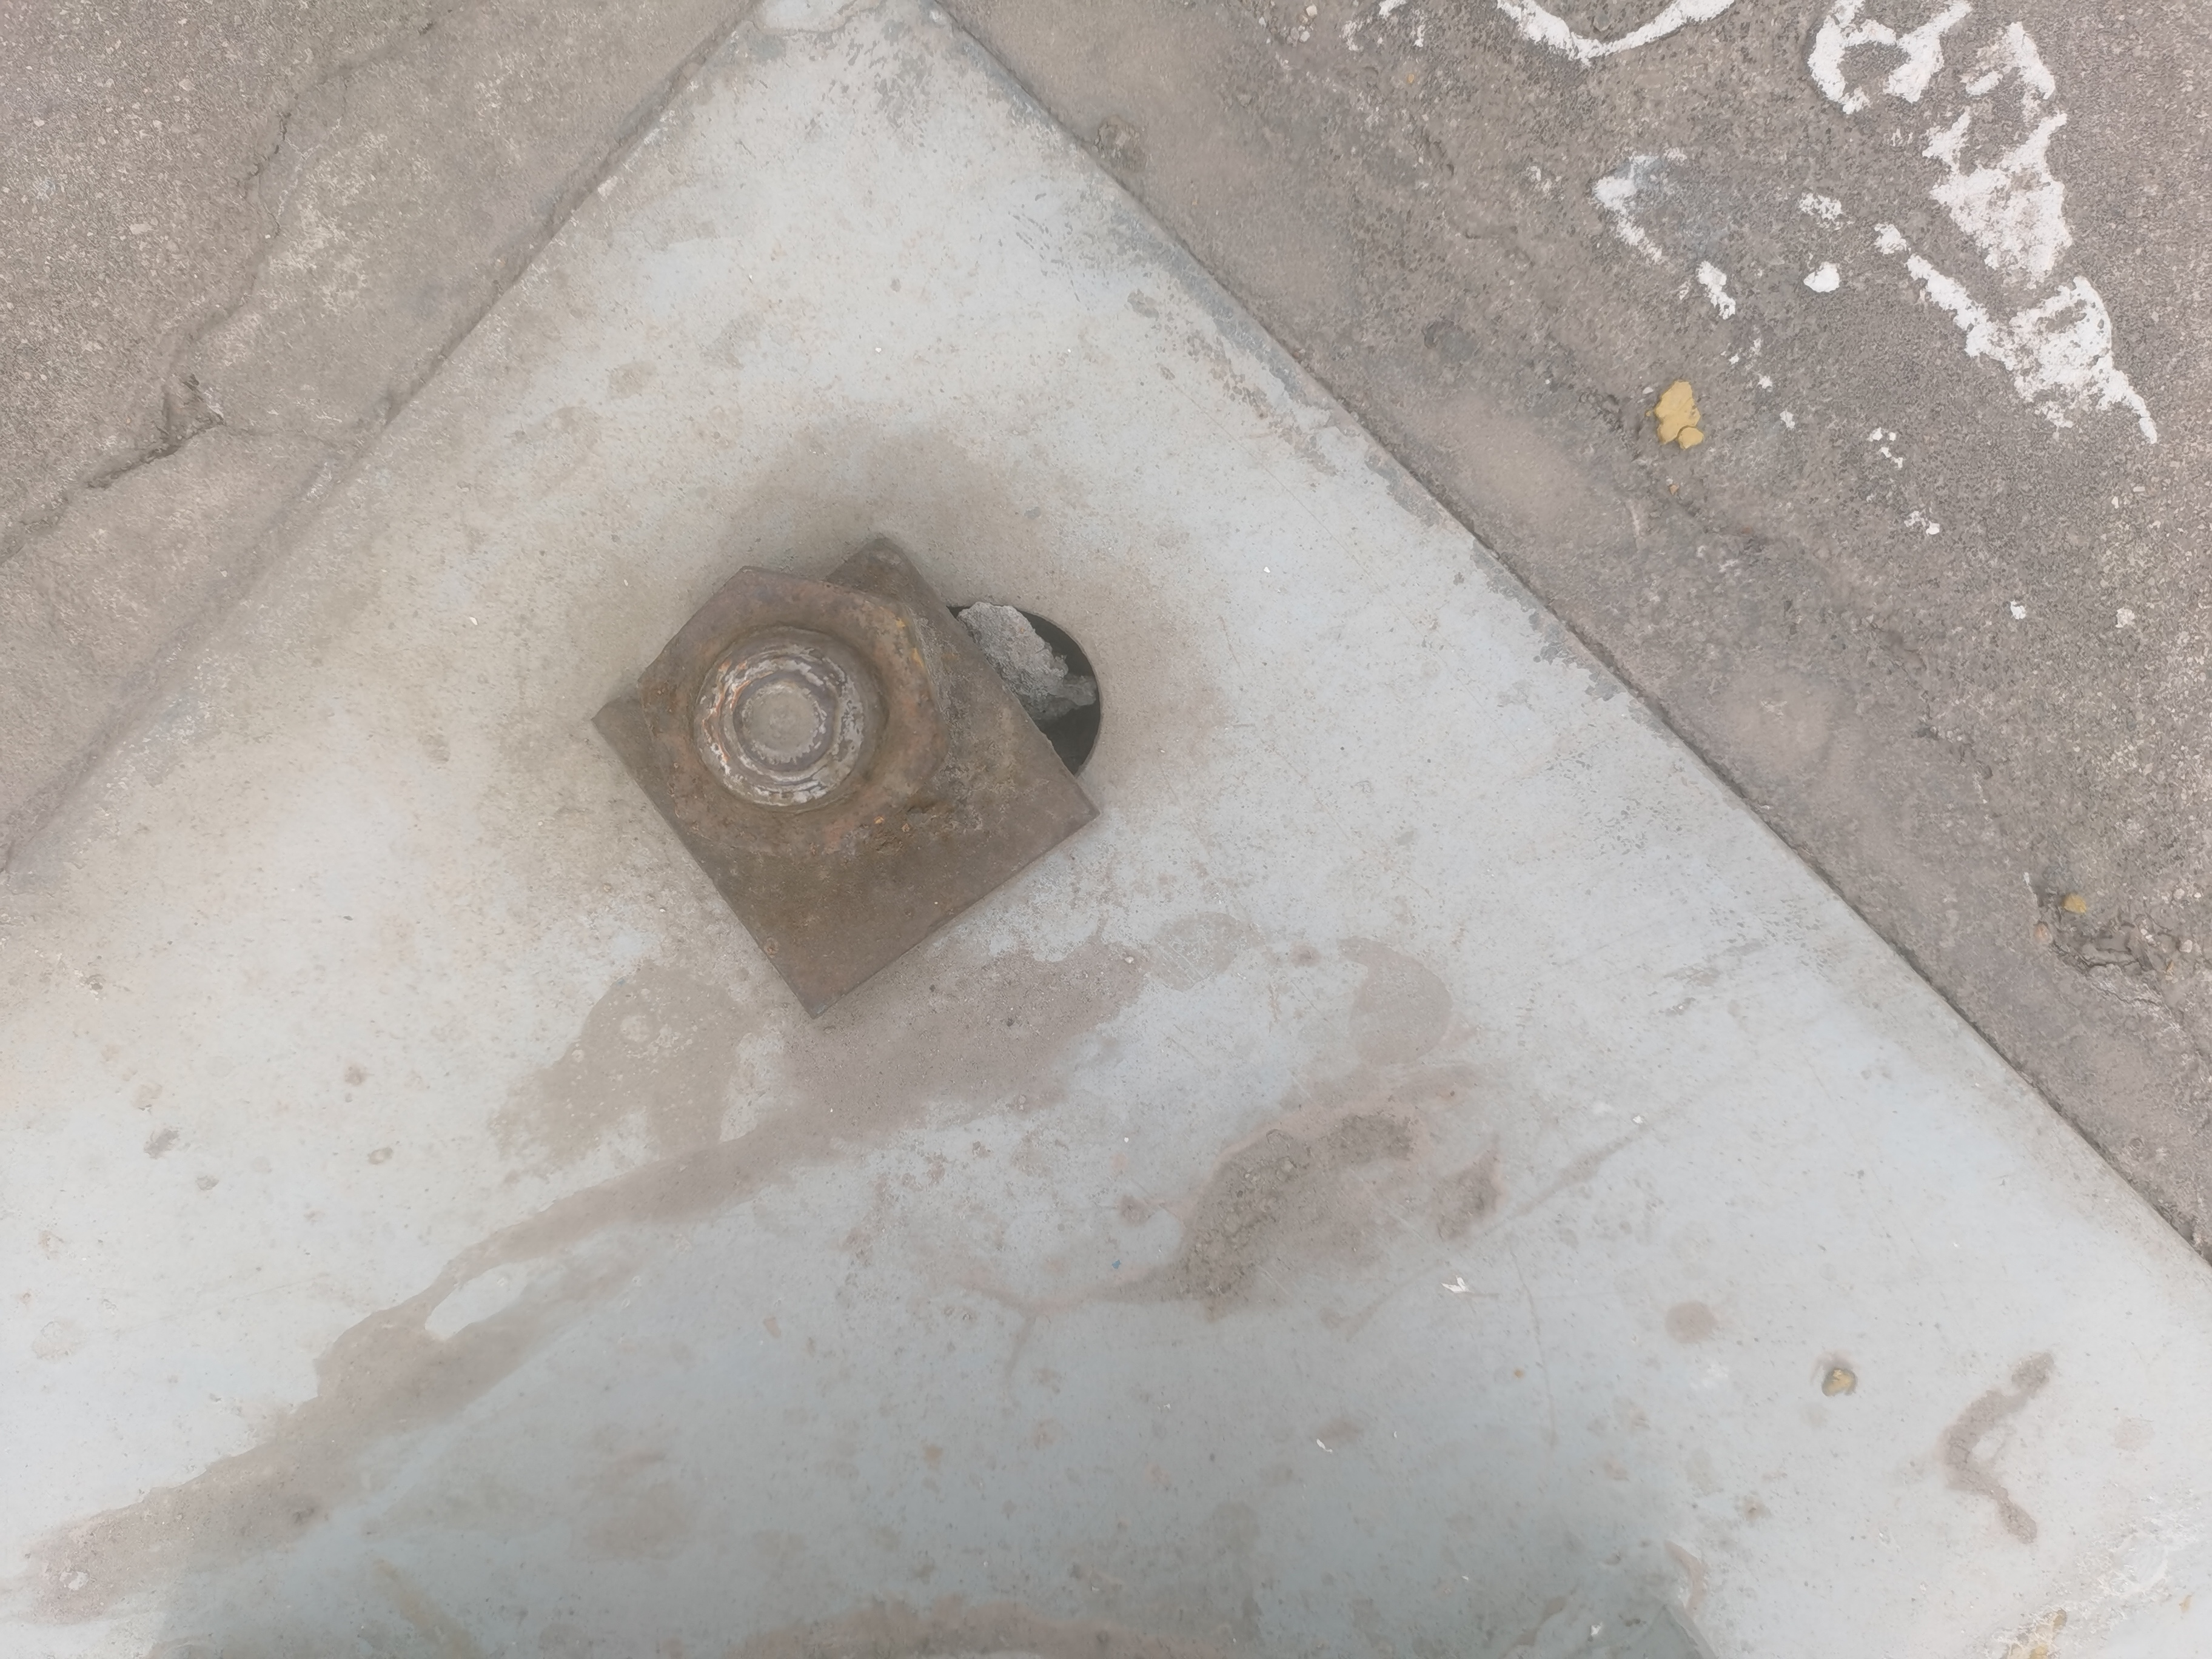bolt_b: (620, 551, 967, 887)
